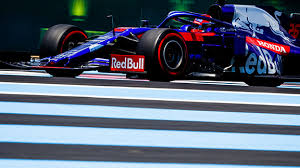FormulaOneCar: (5, 3, 300, 87)
